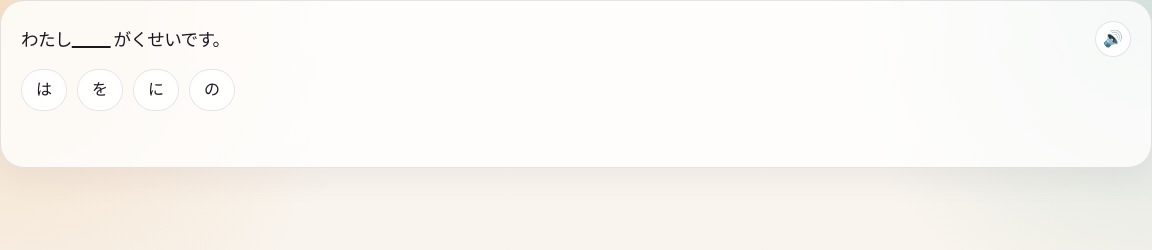
Test: GrammarQuiz — chấm điểm › báo sai khi chọn nhầm
Click the button "を": click(100, 90) [77,69,123,111]
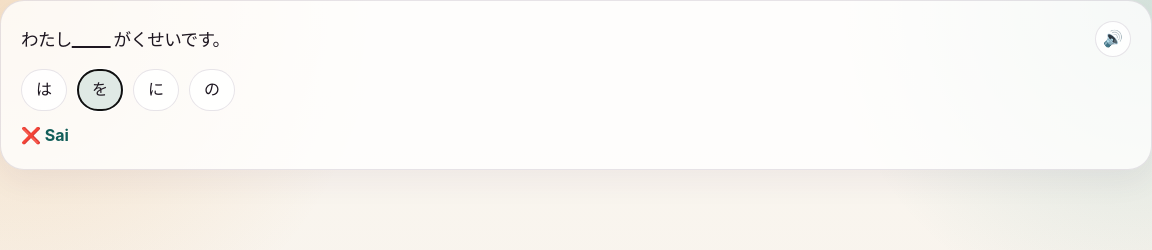
Check: the text "❌ Sai" is shown, box [21,125,69,145]
